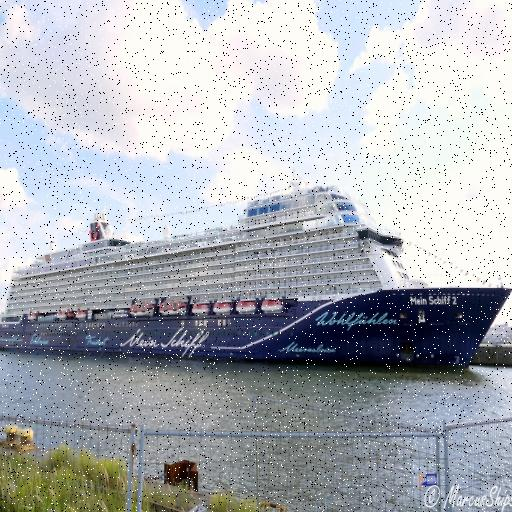cruises: (1, 175, 512, 385)
